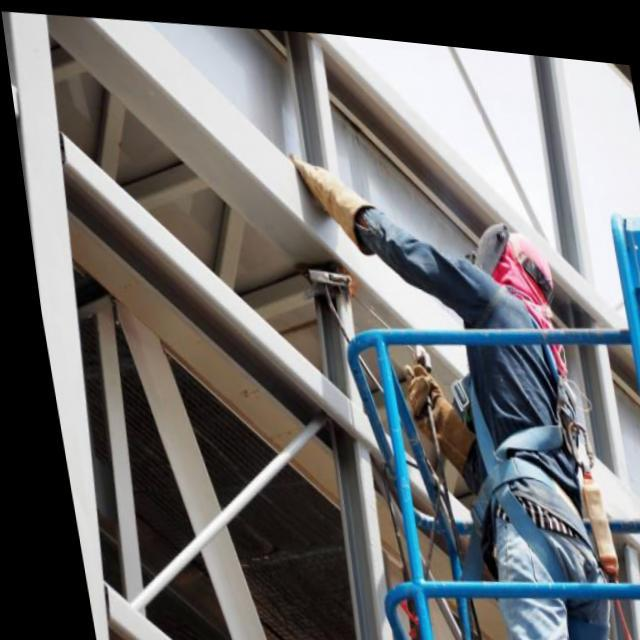belt: (434, 286, 607, 640)
